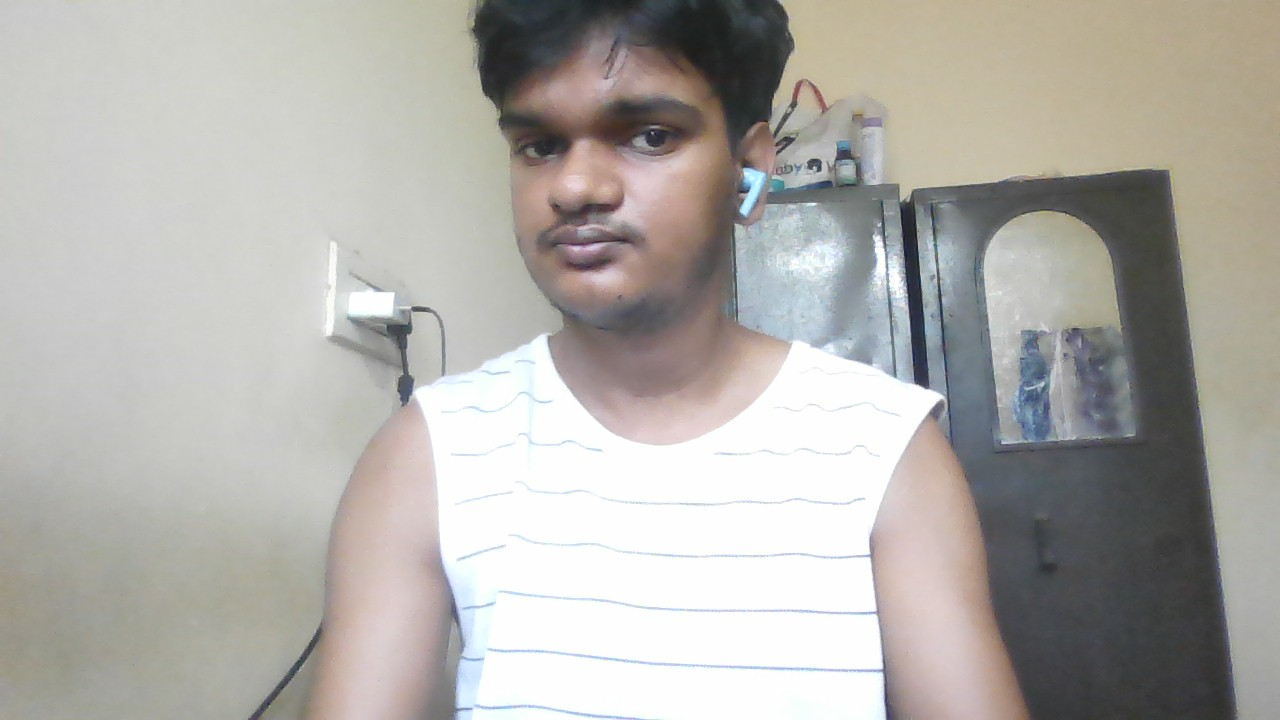earphone: (740, 165, 763, 215)
